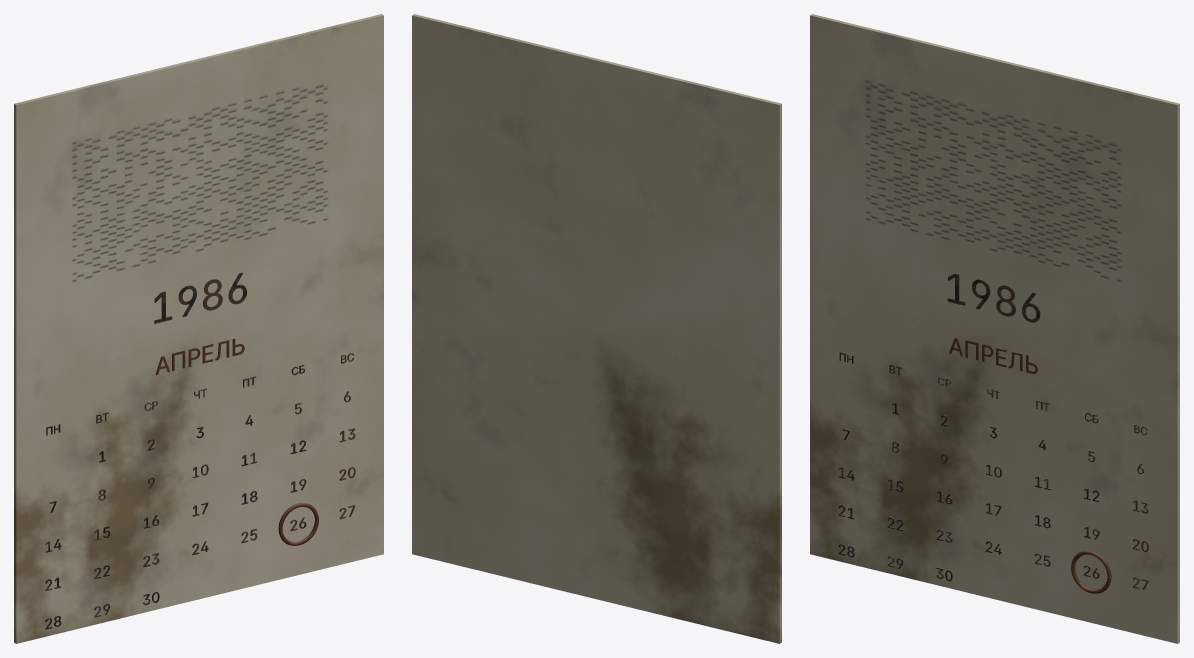
The model's file is SM_Calendar_1986_April.fbx.
The picture shows the model from 3 angles, left to right: view 1: azimuth 30°, elevation 25°; view 2: azimuth 150°, elevation 25°; view 3: azimuth 330°, elevation 25°; orthographic projection.
Parts seen in each view (by area): view 1: SM_Calendar_1986_April; view 2: SM_Calendar_1986_April; view 3: SM_Calendar_1986_April.
Part boxes in pixels (x1=…): SM_Calendar_1986_April: x1=14, y1=14, x2=383, y2=643; SM_Calendar_1986_April: x1=412, y1=14, x2=781, y2=643; SM_Calendar_1986_April: x1=810, y1=14, x2=1179, y2=643.
Bounding box in the file's own units: 0.3 × 0.42 × 0.0054.
Materials: 1 (1 with a texture image).
